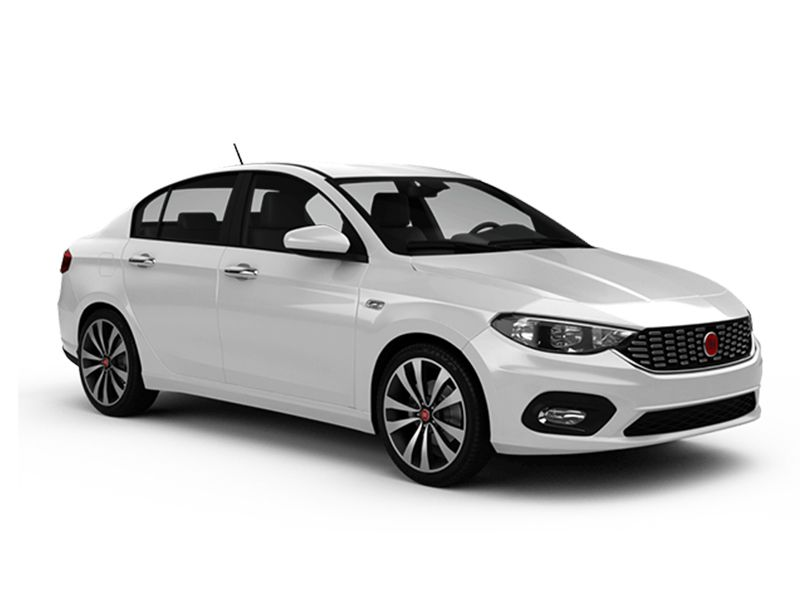araba: (60, 163, 763, 484)
